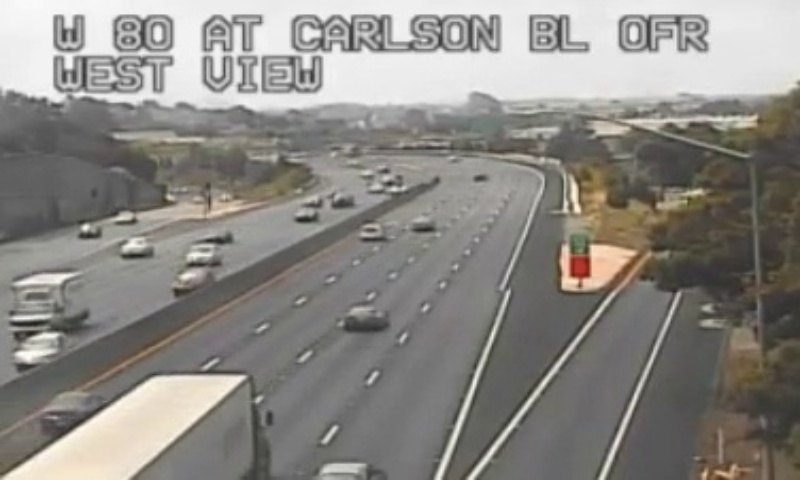car: (42, 391, 106, 431), (344, 304, 389, 330), (357, 223, 382, 241)
truck: (2, 373, 265, 480)
